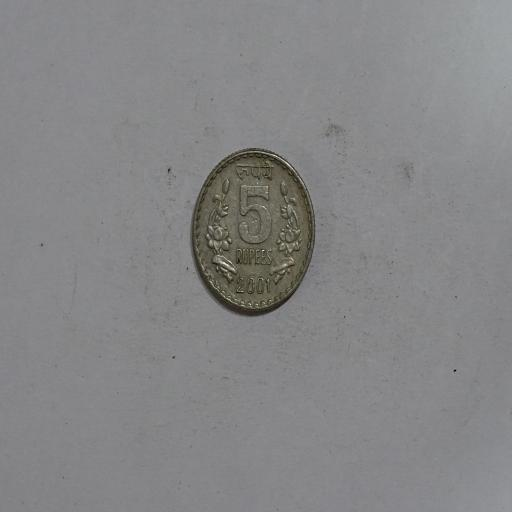rupee5: (189, 147, 316, 315)
